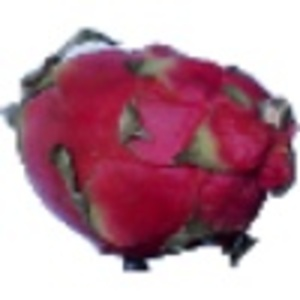pitaia: (1, 27, 300, 275)
